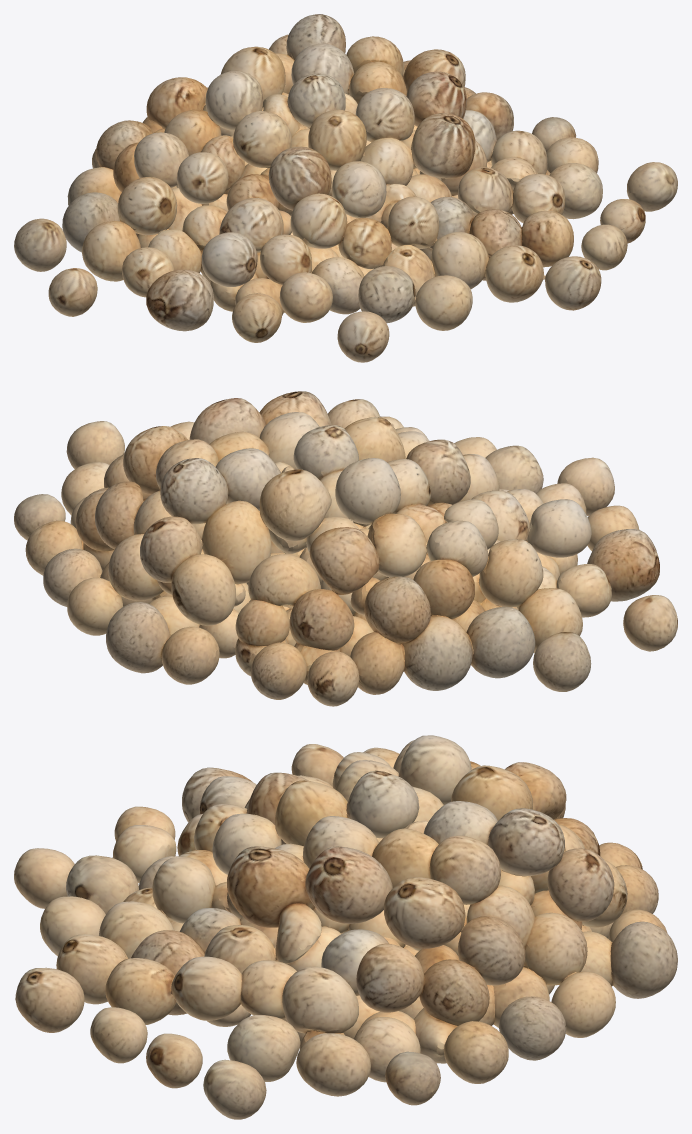
File: lod_basic_pbr.fbx
The picture shows the model from 3 angles, top to bottom: view 1: azimuth 30°, elevation 25°; view 2: azimuth 150°, elevation 25°; view 3: azimuth 270°, elevation 25°; orthographic projection. The views are drawn at different scales.
Visible parts, largest first — view 1: model_LOD0; view 2: model_LOD0; view 3: model_LOD0.
Part boxes in pixels (left/top/right/bottom): model_LOD0: left=14, top=14, right=677, bottom=362; model_LOD0: left=14, top=391, right=677, bottom=706; model_LOD0: left=14, top=735, right=677, bottom=1119.
Size of what is drawn, in the model's own units: 190 by 50.84 by 157.
1 material, 1 textured.
